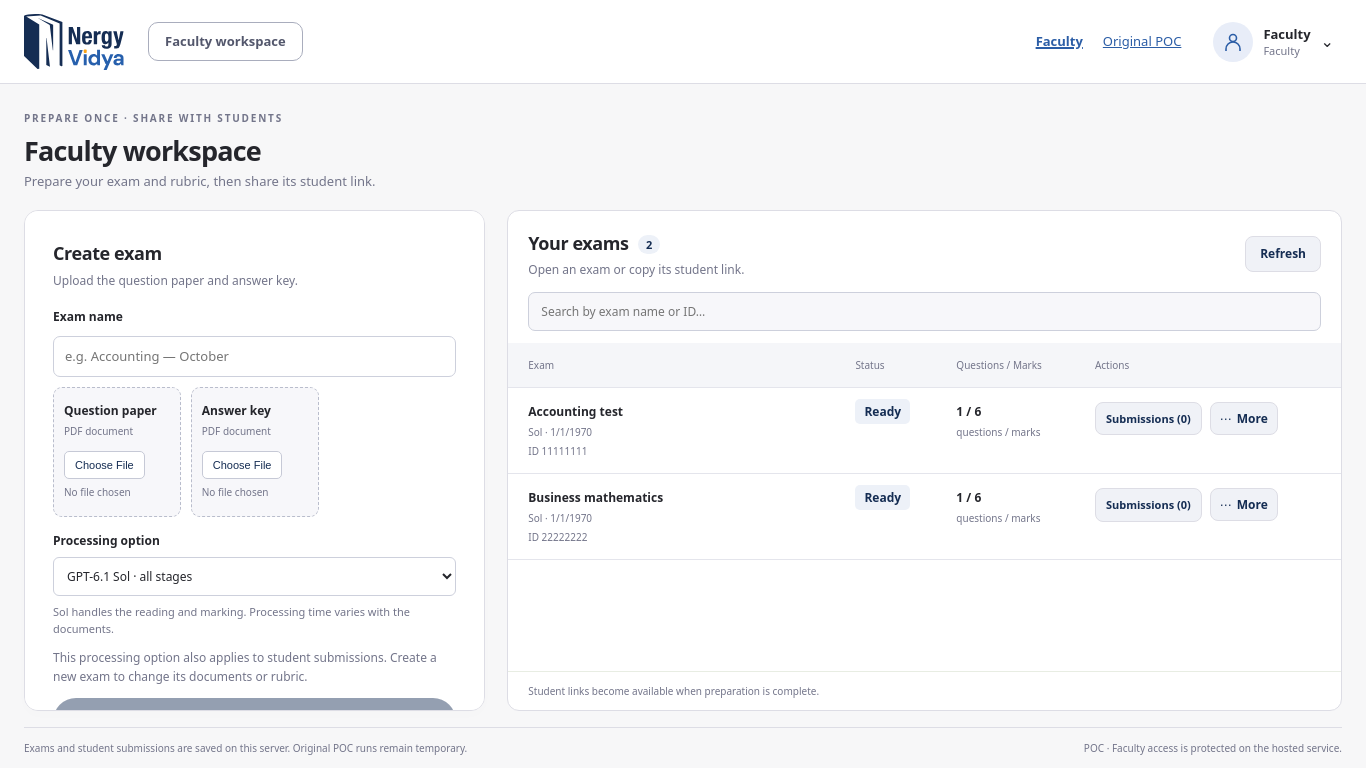
Test: Faculty page › filters exams by name or ID and reports an empty search result
The width and height of the screenshot is (1366, 768).
Check: the text "Business mathematics" is shown, box [528,489,663,506]
In the search field named "Search exams": (925, 311) [528,292,1321,331], type "business"
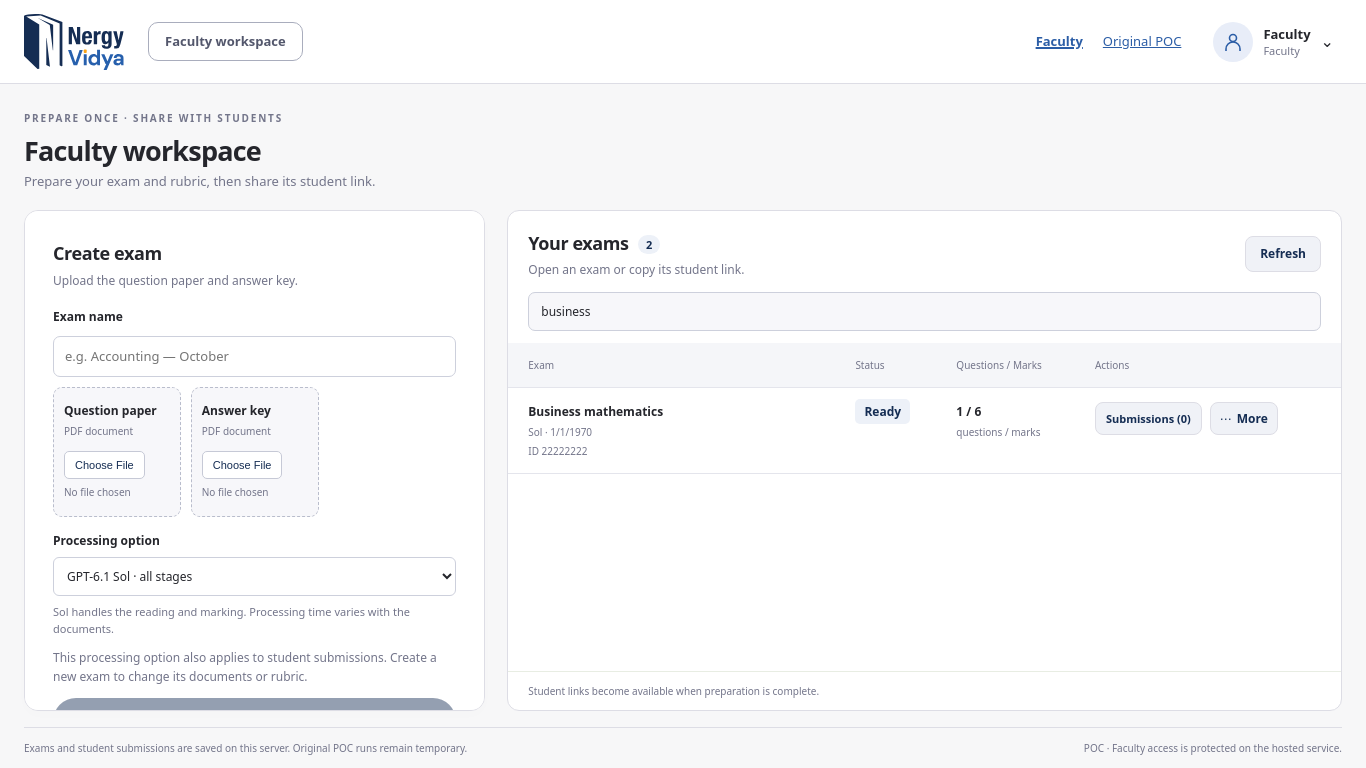
Check: the text "Business mathematics" is shown, box [528,403,663,420]
Check: the text "Accounting test" is gone
Replace the text in the search field with "11111111": (925, 311) [528,292,1321,331]
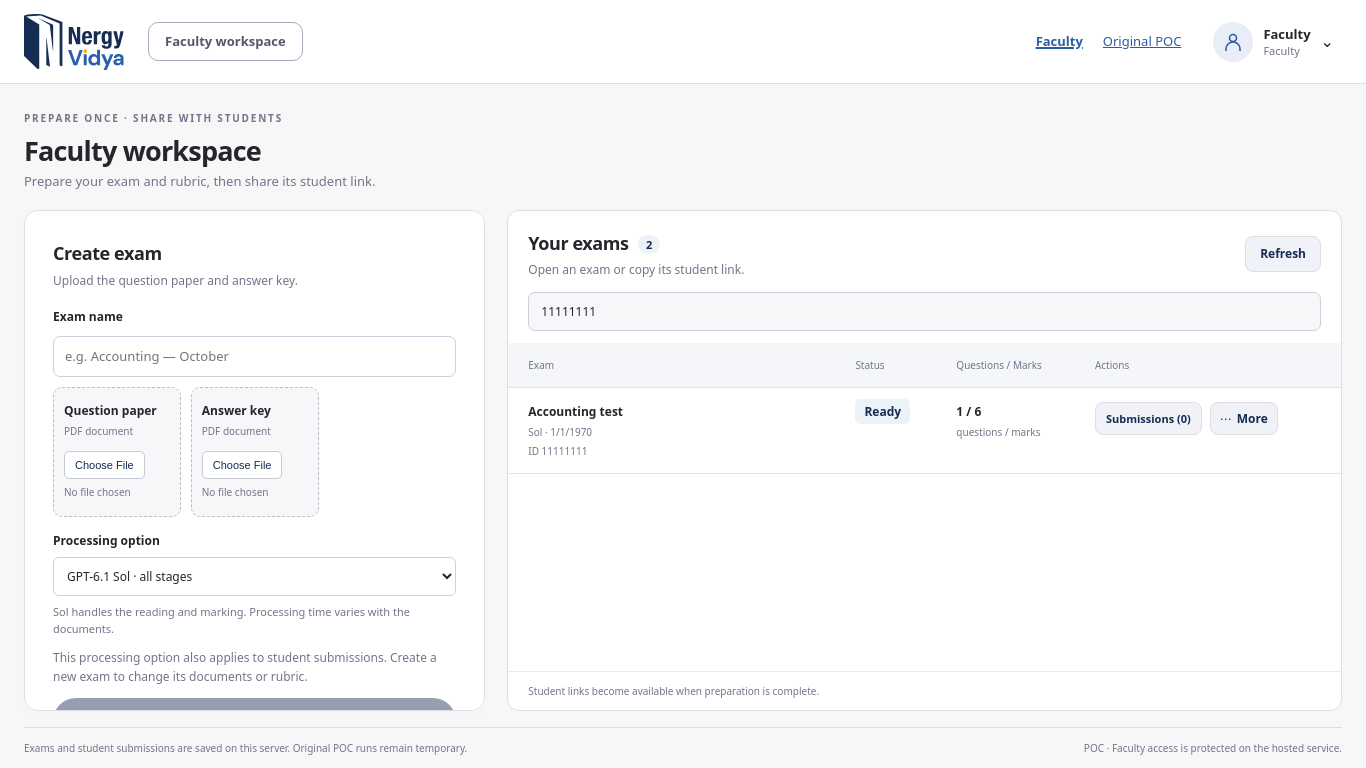
Check: the text "Accounting test" is shown, box [528,403,623,420]
Check: the text "Business mathematics" is gone
Replace the text in the search field with "no match": (925, 311) [528,292,1321,331]
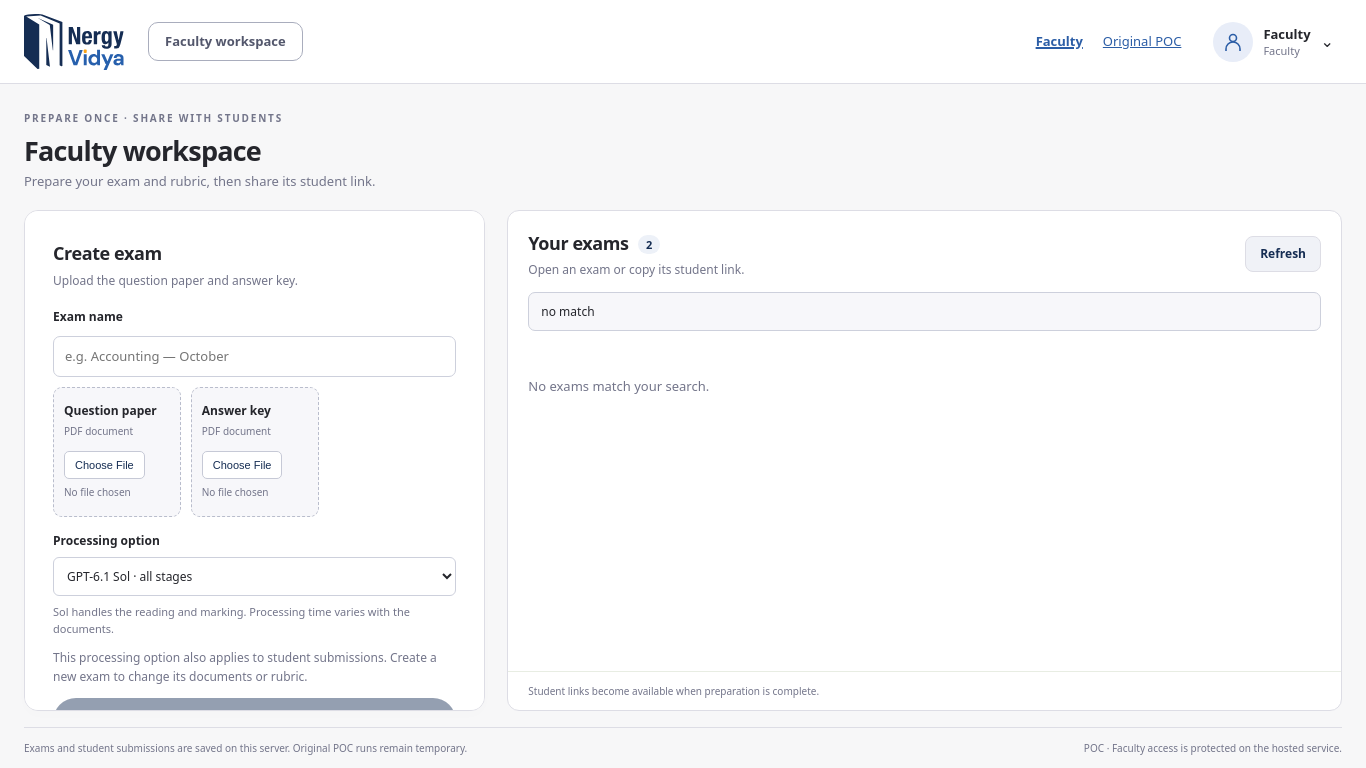
Check: the text "No exams match your search." is shown, box [528,377,709,395]
